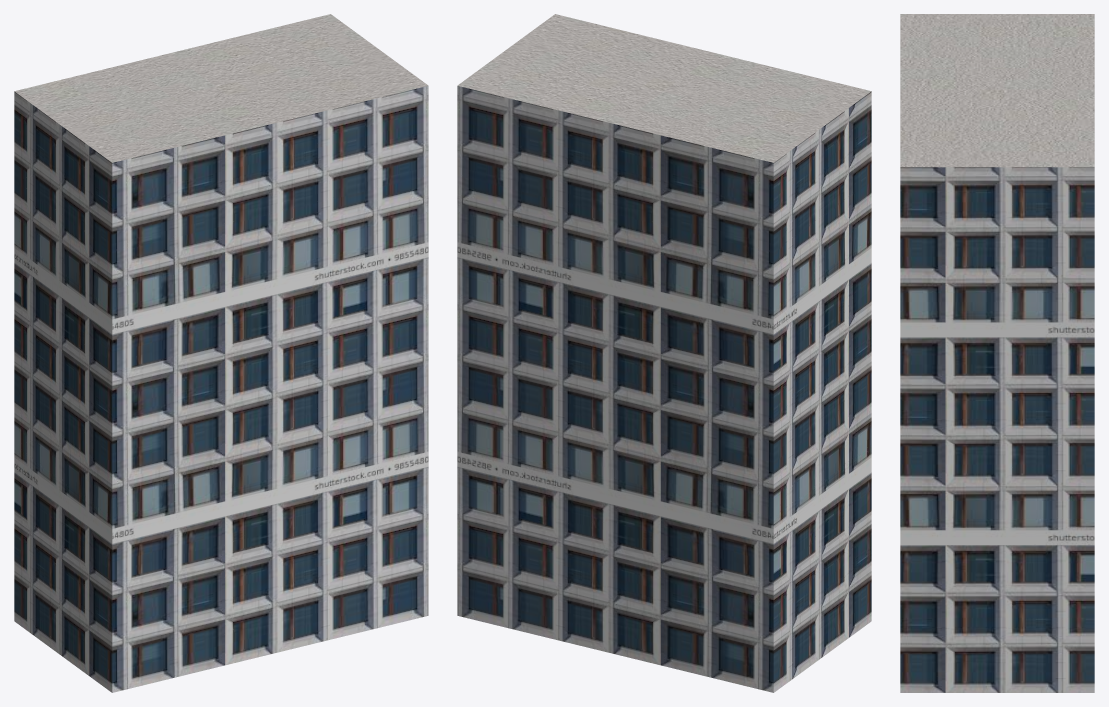
The model's file is building_005.glb.
The picture shows the model from 3 angles, left to right: view 1: azimuth 30°, elevation 25°; view 2: azimuth 150°, elevation 25°; view 3: azimuth 270°, elevation 25°; orthographic projection.
Visible parts, largest first — view 1: building_005; view 2: building_005; view 3: building_005.
Part boxes in pixels (x1=…): building_005: x1=14, y1=14, x2=428, y2=692; building_005: x1=457, y1=14, x2=871, y2=692; building_005: x1=900, y1=14, x2=1094, y2=692.
Size of the model in its own units: 1125 by 1800 by 603.
2 materials, 2 textured.
